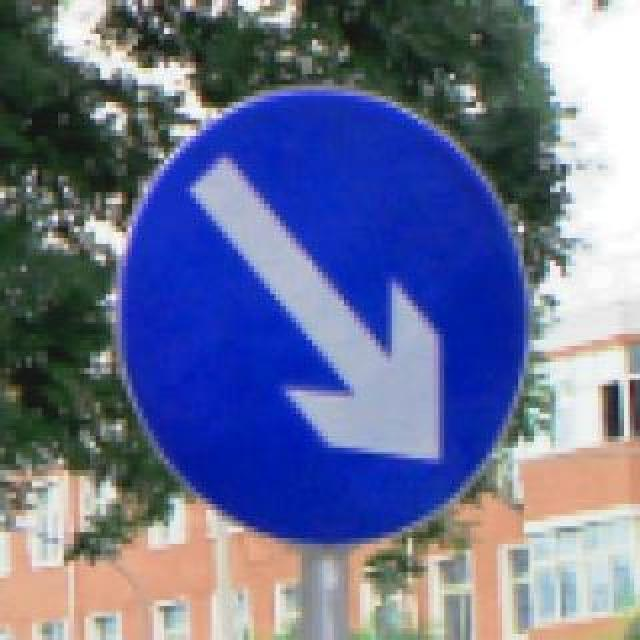keep right: (112, 80, 524, 550)
